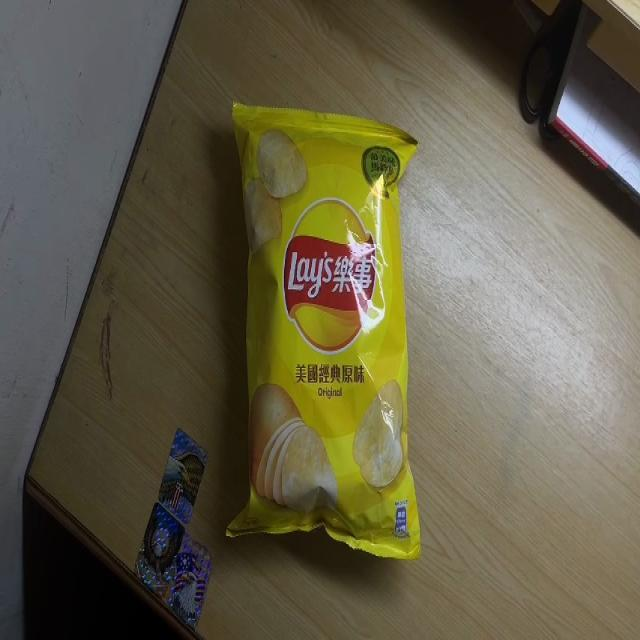Lay-s-original: (226, 94, 423, 566)
